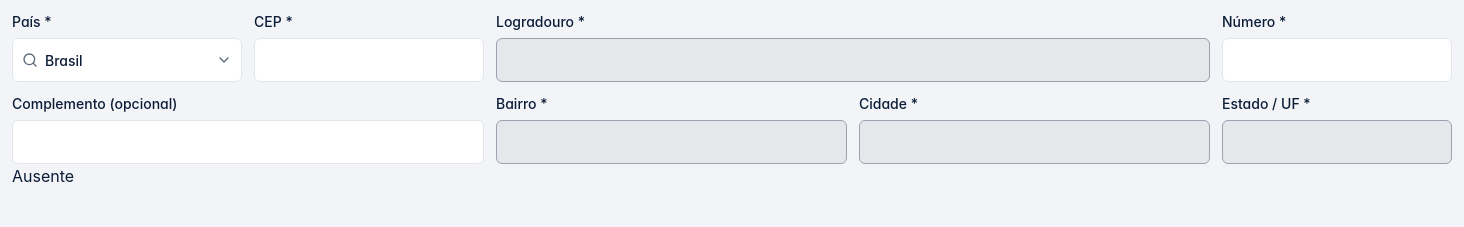
it: ignora consulta antiga depois de trocar CEP e preserva número digitado durante a nova consulta
Step 1. Type "01001000" into the field labelled "CEP *" → (369, 60), box [254,38,484,82]
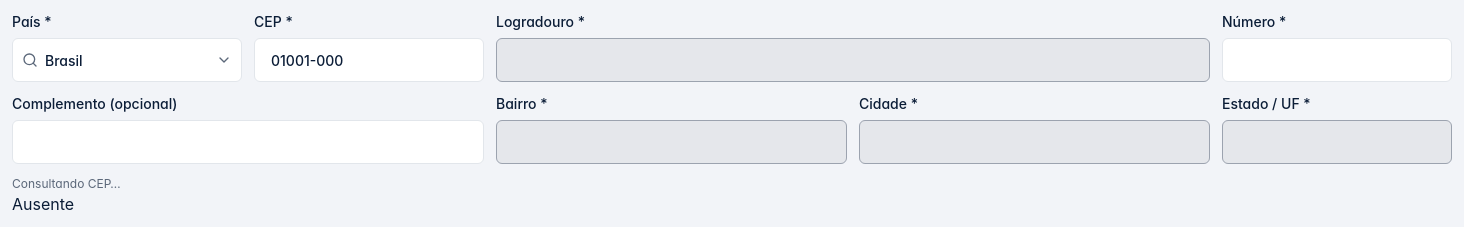
Step 2. Replace the text in the field labelled "CEP *" with "02002000" → (369, 60), box [254,38,484,82]
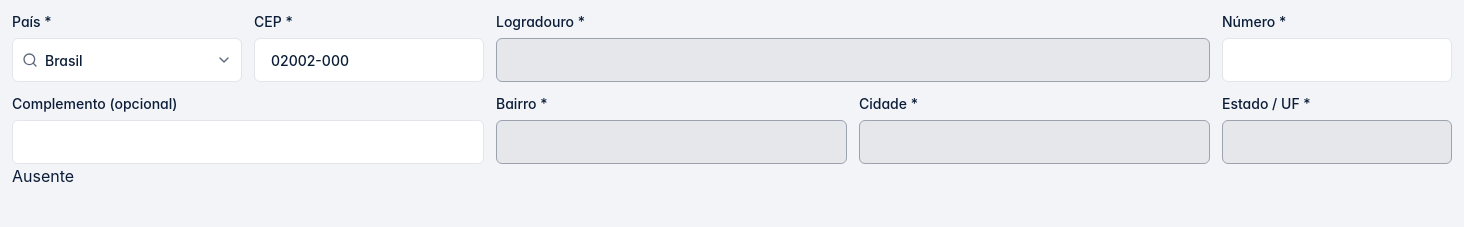
Check: the field labelled "Logradouro *" is empty, box [496,38,1210,82]
Check: the text "Consultando CEP…" is gone
Step 3. Leave the field labelled "CEP *", box [254,38,484,82]
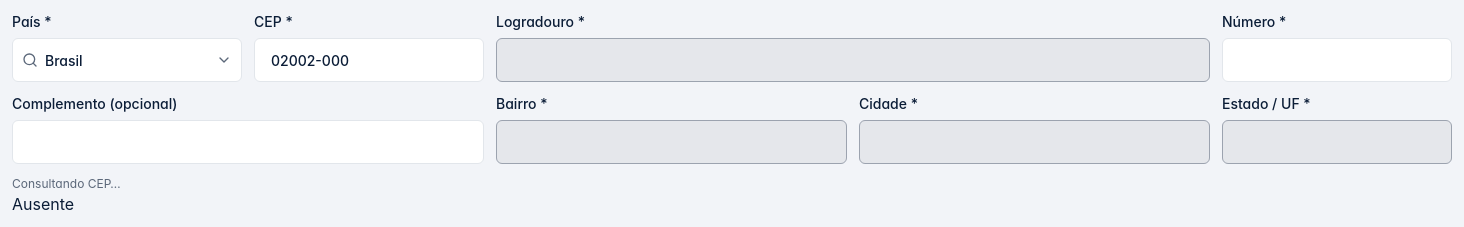
Step 4. Type "42" into the field labelled "Número *" → (1337, 60), box [1222,38,1452,82]
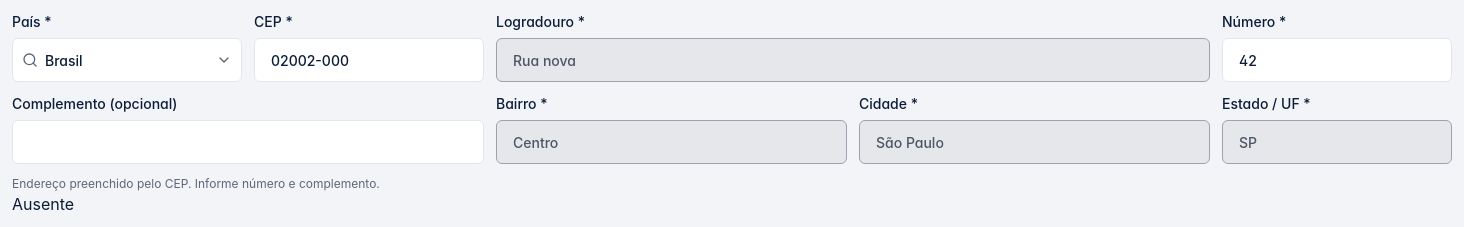
Check: the field labelled "Logradouro *" holds "Rua nova", box [496,38,1210,82]
